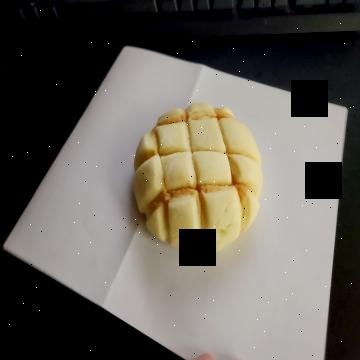melon_bread: (132, 102, 264, 254)
